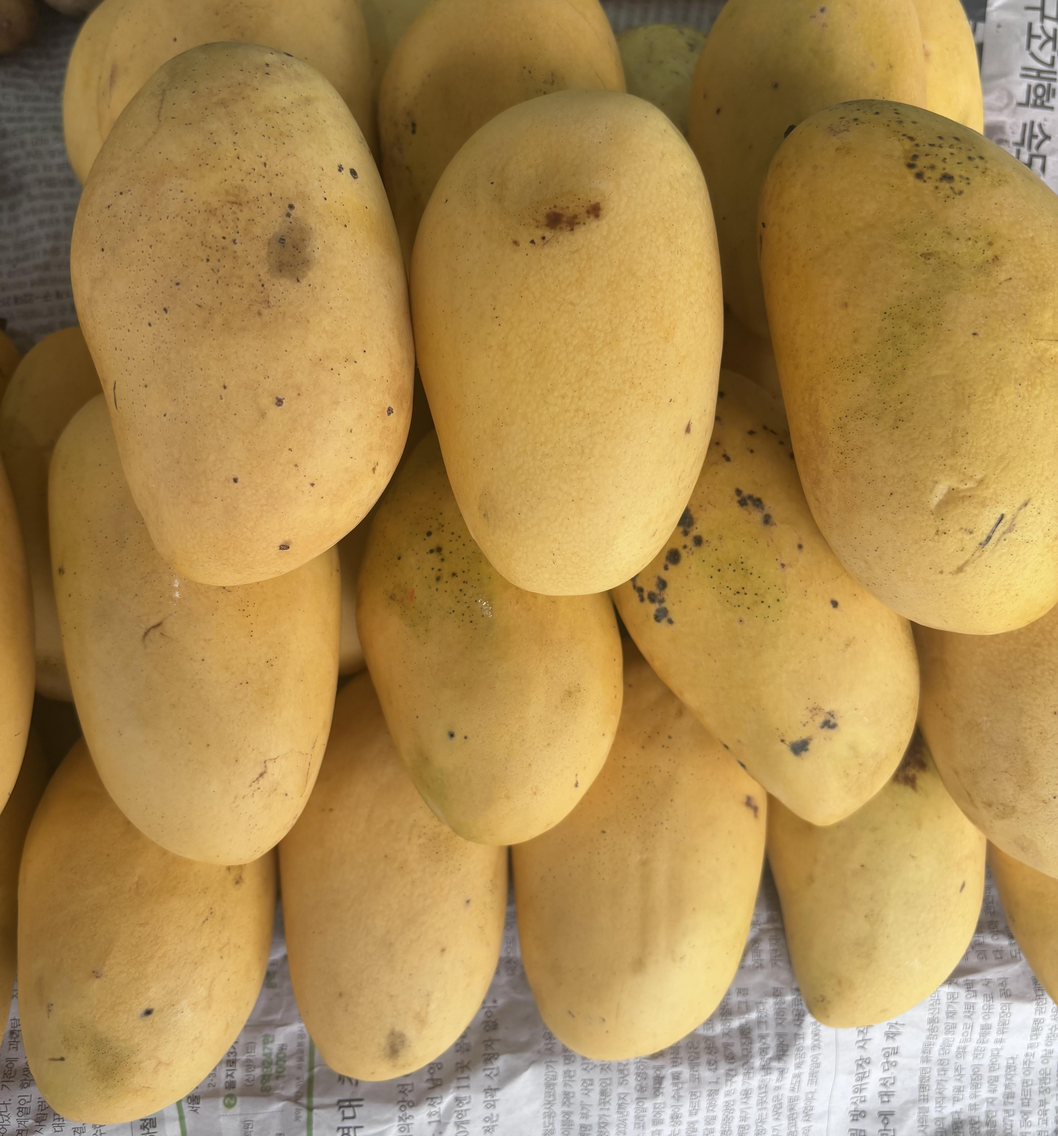mango: (70, 43, 414, 585), (411, 91, 723, 595), (279, 673, 507, 1080)
occluded: (756, 100, 1058, 634), (612, 370, 919, 824), (49, 394, 341, 865), (357, 433, 622, 845), (512, 641, 767, 1061), (17, 738, 276, 1124), (17, 738, 276, 1123), (279, 673, 507, 1080), (689, 0, 926, 335), (378, 0, 625, 267), (767, 730, 985, 1028), (63, 0, 376, 182), (913, 605, 1058, 877), (0, 325, 100, 700), (0, 726, 51, 1032), (0, 460, 36, 812), (988, 844, 1058, 1004), (617, 24, 706, 136), (913, 0, 984, 132), (337, 498, 381, 675), (359, 0, 428, 110), (398, 371, 432, 469), (0, 328, 21, 401)
